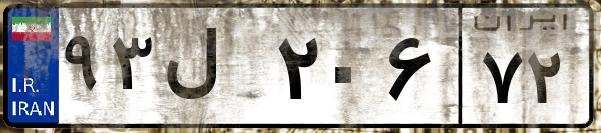0: (330, 28, 385, 110)
2: (270, 28, 330, 110), (525, 38, 570, 115)
3: (110, 28, 158, 98)
6: (385, 28, 445, 110)
7: (475, 38, 525, 113)
9: (57, 26, 110, 100)
ل: (158, 20, 270, 120)
